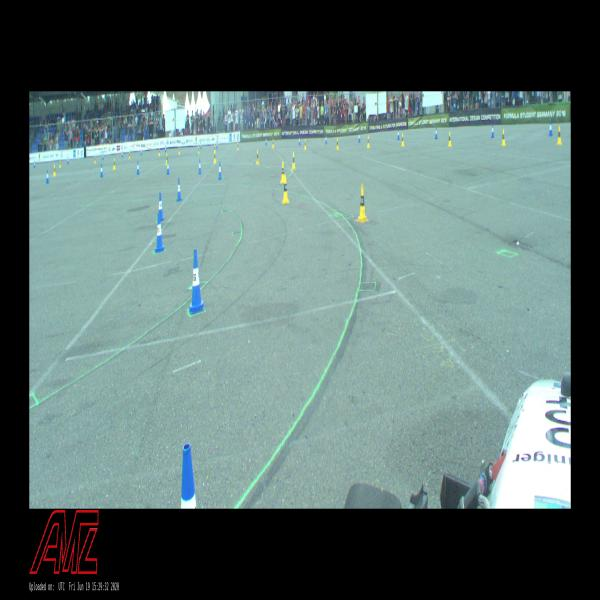blue_cone: (181, 444, 197, 508), (189, 250, 205, 313), (155, 214, 164, 252), (158, 193, 164, 220), (176, 179, 182, 201), (218, 162, 222, 179), (549, 121, 553, 136), (198, 159, 202, 174), (491, 124, 494, 138), (46, 170, 49, 183), (167, 161, 170, 174), (100, 163, 103, 176), (137, 162, 139, 174), (435, 128, 437, 139), (398, 129, 400, 140), (358, 132, 360, 142), (266, 137, 268, 145), (325, 135, 327, 143), (102, 153, 104, 160), (67, 157, 69, 164), (216, 142, 218, 148), (299, 136, 300, 146), (34, 161, 35, 168), (165, 145, 166, 152), (122, 151, 123, 157), (141, 150, 142, 156), (201, 143, 201, 149)
yellow_cone: (358, 184, 366, 221), (282, 175, 288, 203), (557, 126, 562, 145), (281, 162, 285, 183), (292, 152, 296, 169), (256, 150, 260, 164), (502, 129, 505, 146), (448, 132, 451, 146), (401, 133, 404, 146), (165, 153, 168, 165), (53, 165, 56, 176), (113, 159, 116, 169), (214, 151, 216, 163), (336, 138, 338, 150), (367, 136, 369, 147), (304, 140, 306, 150), (272, 138, 274, 148), (59, 160, 61, 168), (198, 146, 200, 154), (237, 142, 239, 150), (214, 145, 216, 152), (94, 157, 96, 164), (129, 152, 130, 159), (159, 149, 160, 156), (179, 147, 180, 154)
